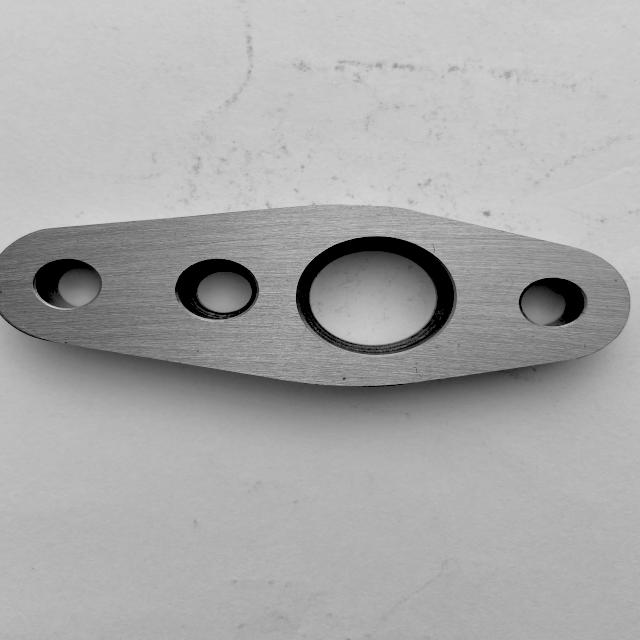lines: (410, 364, 424, 380), (431, 240, 438, 254)
